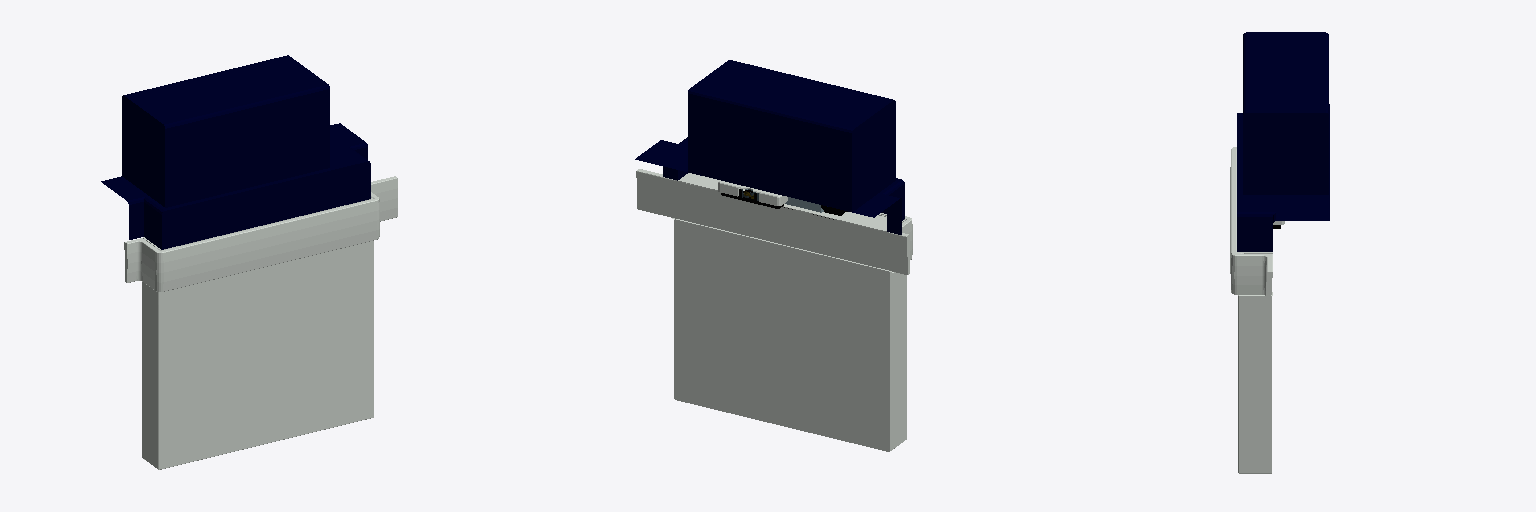
Rendered from Sealer.obj.
3 views of the same model, side by side, from view 1: azimuth 30°, elevation 25°; view 2: azimuth 150°, elevation 25°; view 3: azimuth 270°, elevation 25° (orthographic).
Parts seen in each view (by area): view 1: object1, object17, object2; view 2: object1, object17, object2, object7; view 3: object17, object1, object2.
Boxes of the visible parts, box(x1,y1,x2,y2) form: object1: box(142, 241, 373, 469); object17: box(101, 55, 370, 249); object2: box(124, 176, 397, 291); object1: box(674, 219, 906, 451); object17: box(635, 60, 904, 234); object2: box(636, 169, 912, 274); object7: box(718, 180, 787, 205); object17: box(1237, 32, 1329, 251); object1: box(1238, 296, 1271, 473); object2: box(1230, 147, 1272, 311).
Bounding box in the file's own units: 47.59 × 57.24 × 15.09.